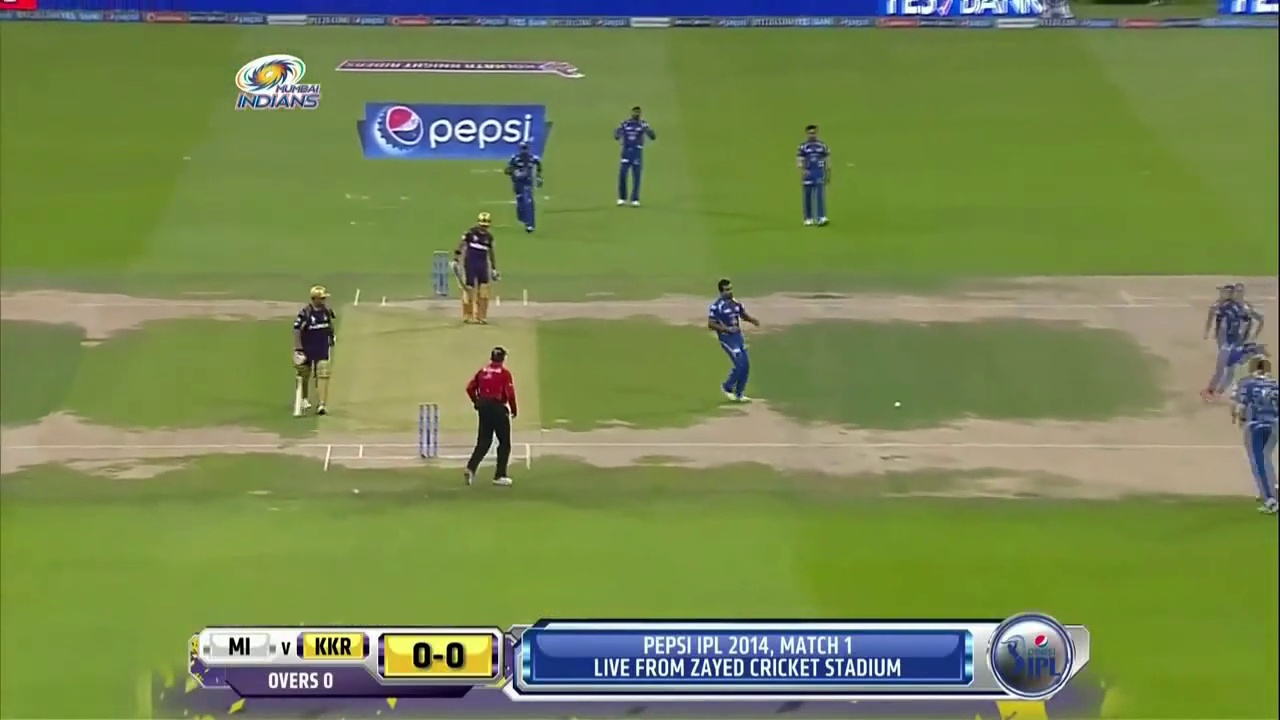bat: (295, 380, 303, 416)
stumps: (417, 402, 439, 461)
